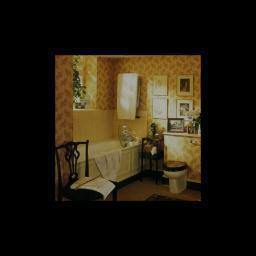Sanitario: (161, 157, 189, 195)
